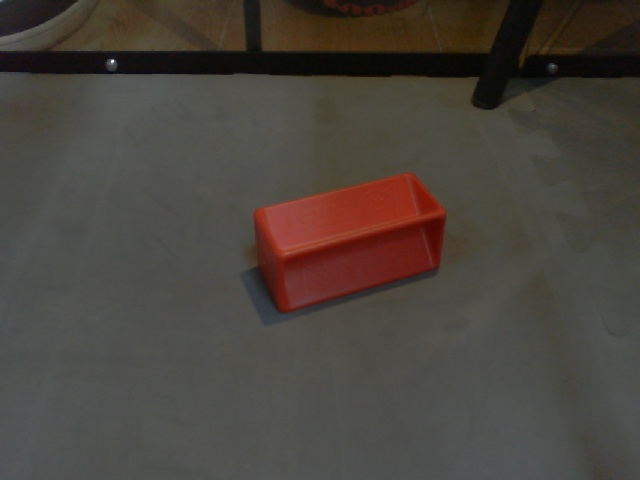RedSample: (250, 170, 447, 315)
